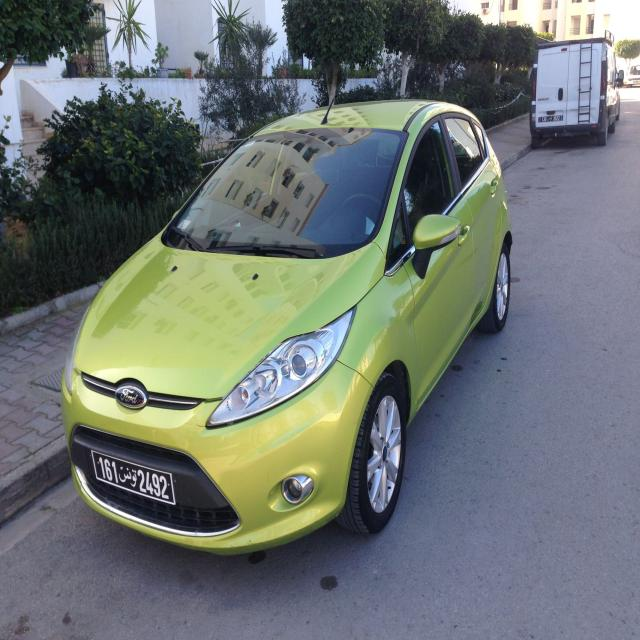LP: (89, 449, 177, 505)
